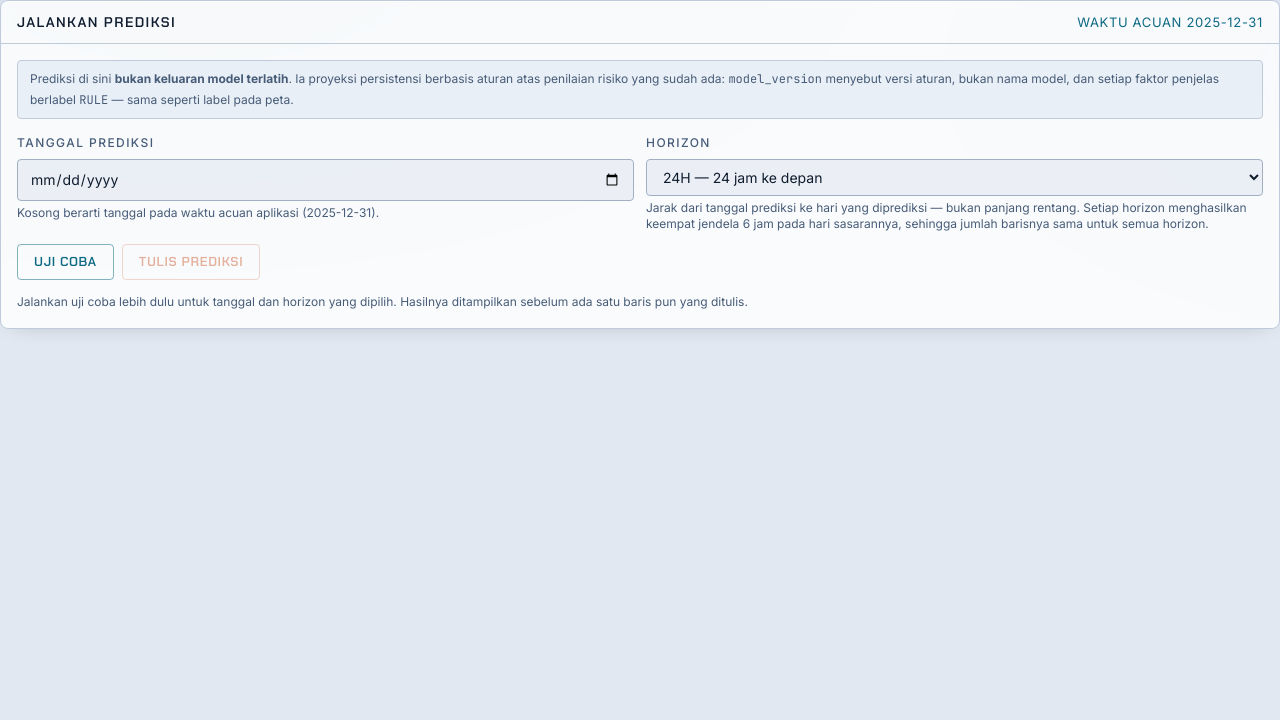
it: tombol penjalanan › membuka tombol tulis setelah uji coba horizon yang sama ditampilkan
Click the button "Uji Coba".
click(65, 262)  # box [17,244,114,280]
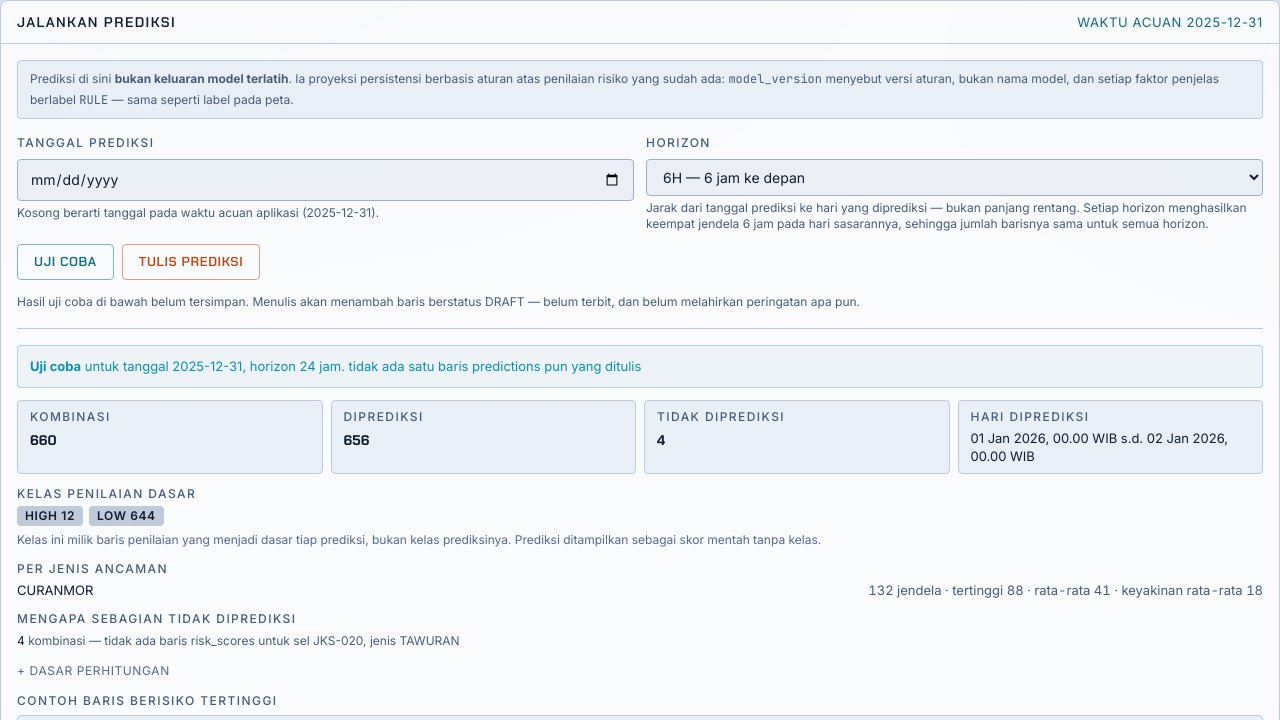
Expected: the button "Tulis Prediksi" is enabled, [122,244,260,280]
Expected: the text "Uji coba" is shown, [30,358,81,374]
